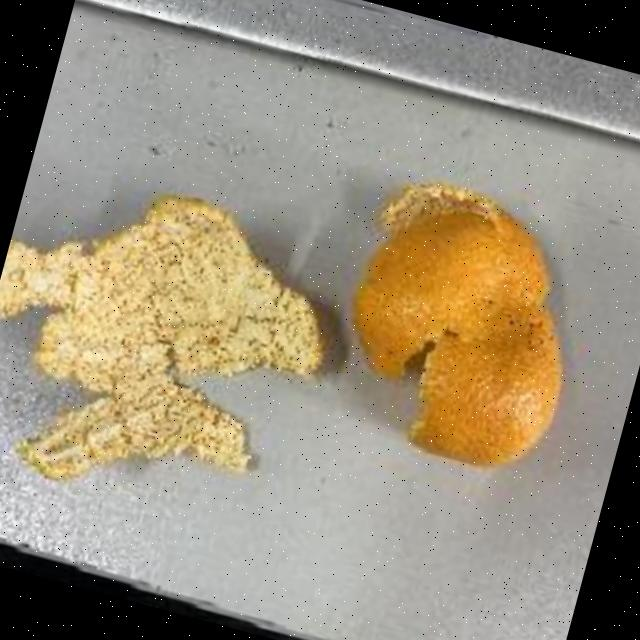orange-peel: (314, 160, 610, 486)
